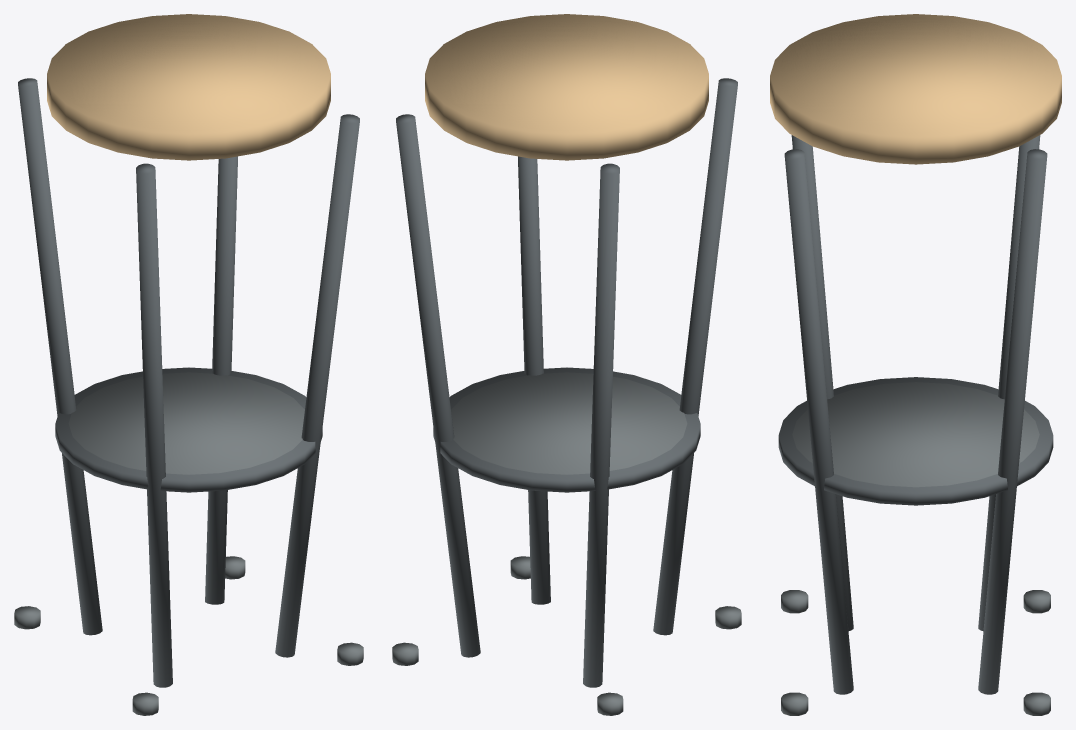
Rendered from seating.stool-high.glb.
The picture shows the model from 3 angles, left to right: view 1: azimuth 30°, elevation 25°; view 2: azimuth 150°, elevation 25°; view 3: azimuth 270°, elevation 25°; orthographic projection. The views are drawn at different scales.
Visible parts, largest first — view 1: seating.stool-high; view 2: seating.stool-high; view 3: seating.stool-high.
Boxes of the visible parts, bbox=[...] form: seating.stool-high: bbox=[14, 14, 363, 715]; seating.stool-high: bbox=[392, 14, 741, 715]; seating.stool-high: bbox=[770, 14, 1061, 715].
Bounding box in the file's own units: 0.34 × 0.7514 × 0.34.
